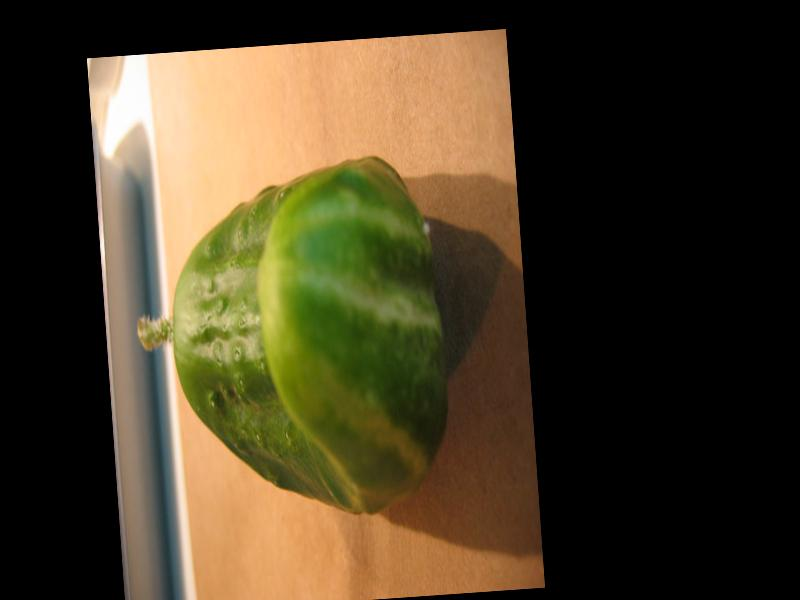Cucumber: (125, 149, 457, 526)
